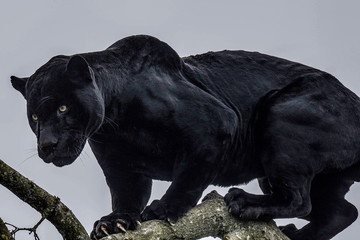panther: (8, 34, 358, 240)
